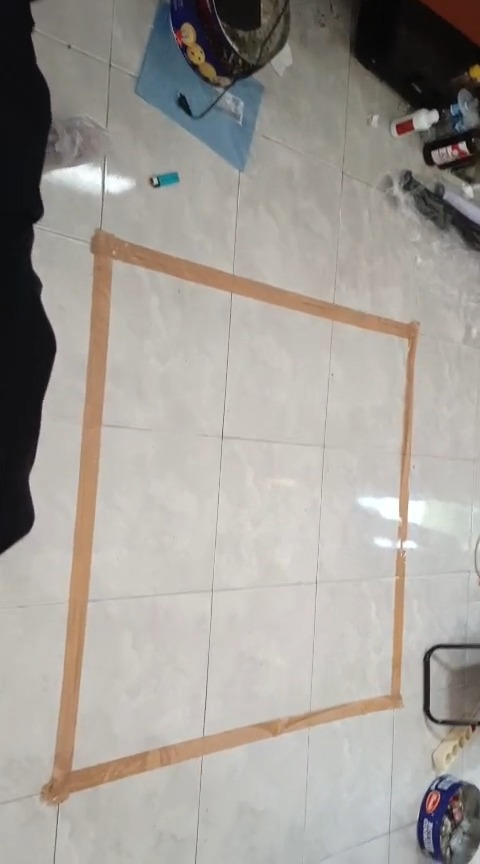floor marking: (42, 230, 418, 803)
